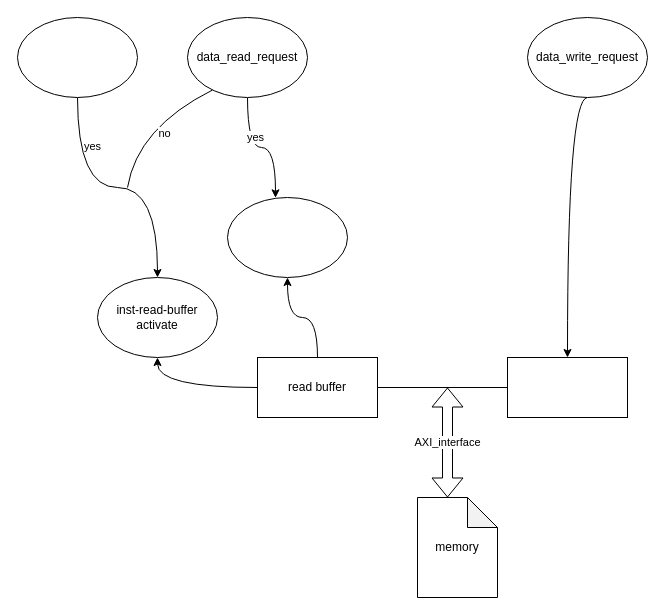
Some shapes in this 665 by 615 pixel diagram are drawn without their labels. The centre of each missing label's shape, as x and y in pixels:
"data-read-buffer activate" belongs at [287,237].
"inst_read_request" belongs at [77,57].
"write buffer" belongs at [567,387].
